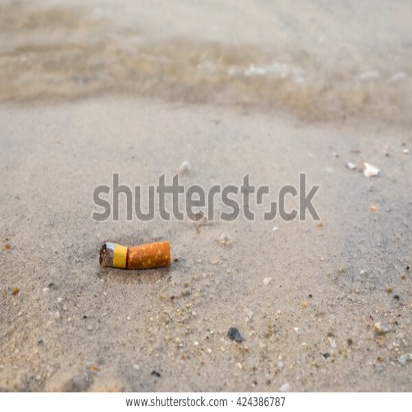cigarette: (96, 236, 177, 274)
